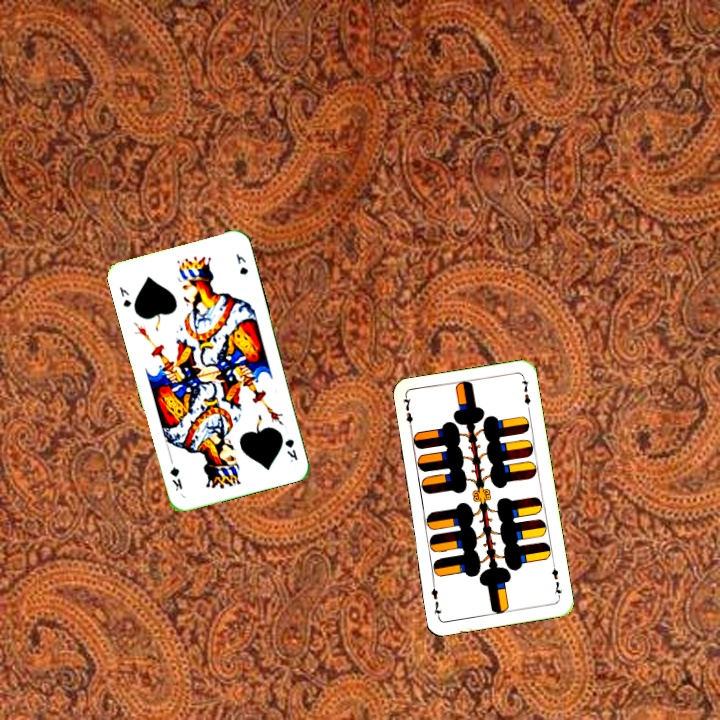E7: (548, 560, 565, 601), (399, 393, 416, 434)
GK: (281, 435, 300, 465), (115, 283, 134, 310)
